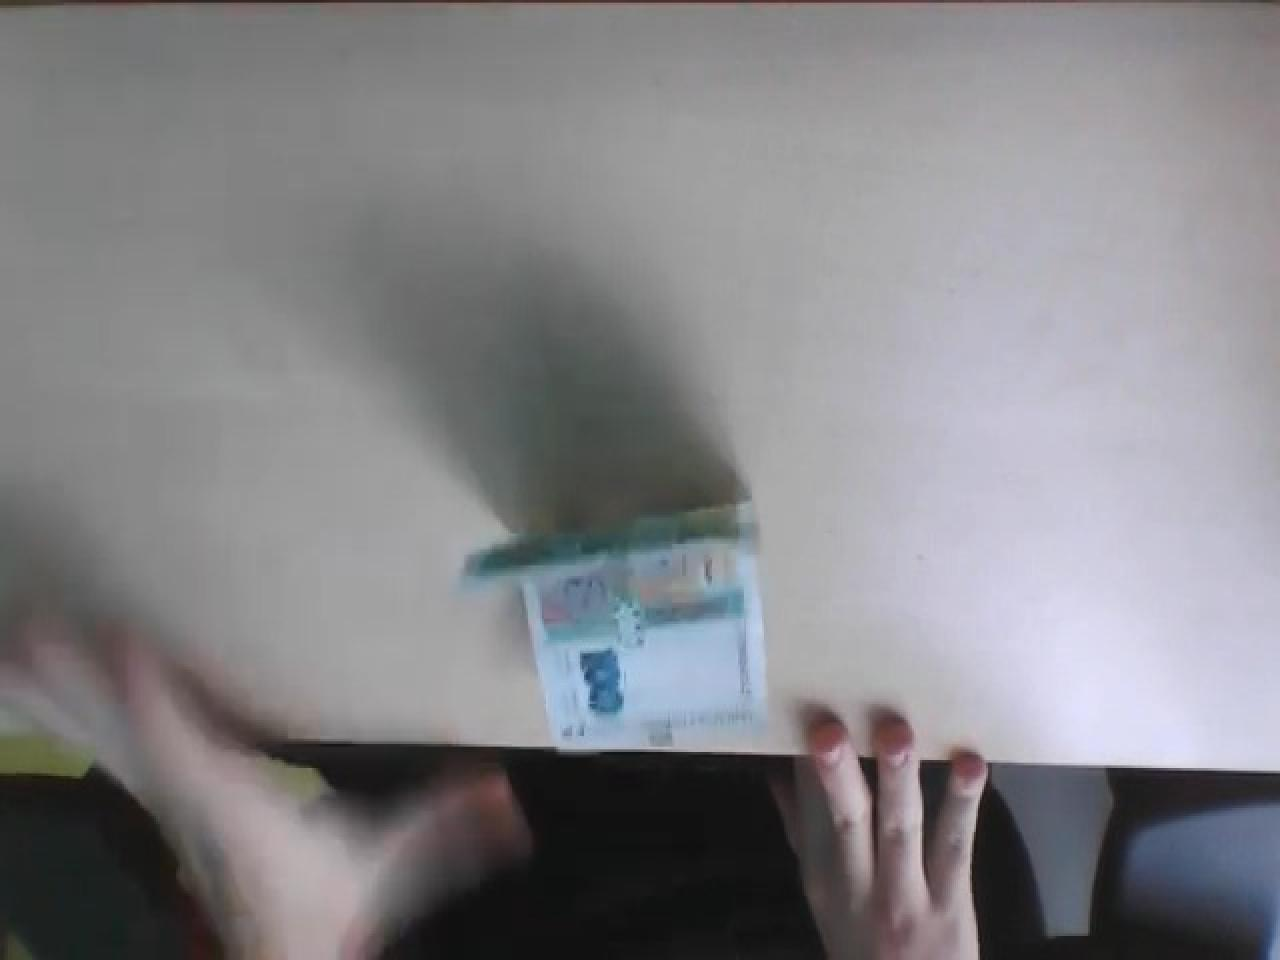100leva: (462, 496, 772, 754)
